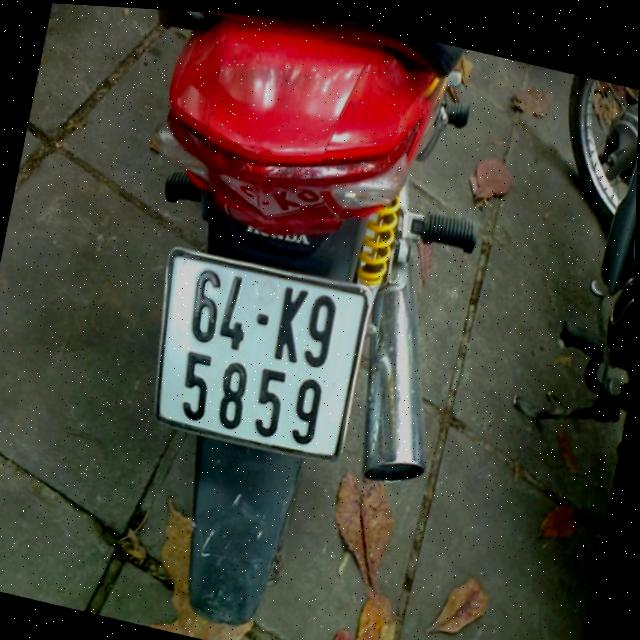motorcycle: (27, 2, 516, 640), (488, 68, 639, 487)
plate: (138, 237, 379, 466)
